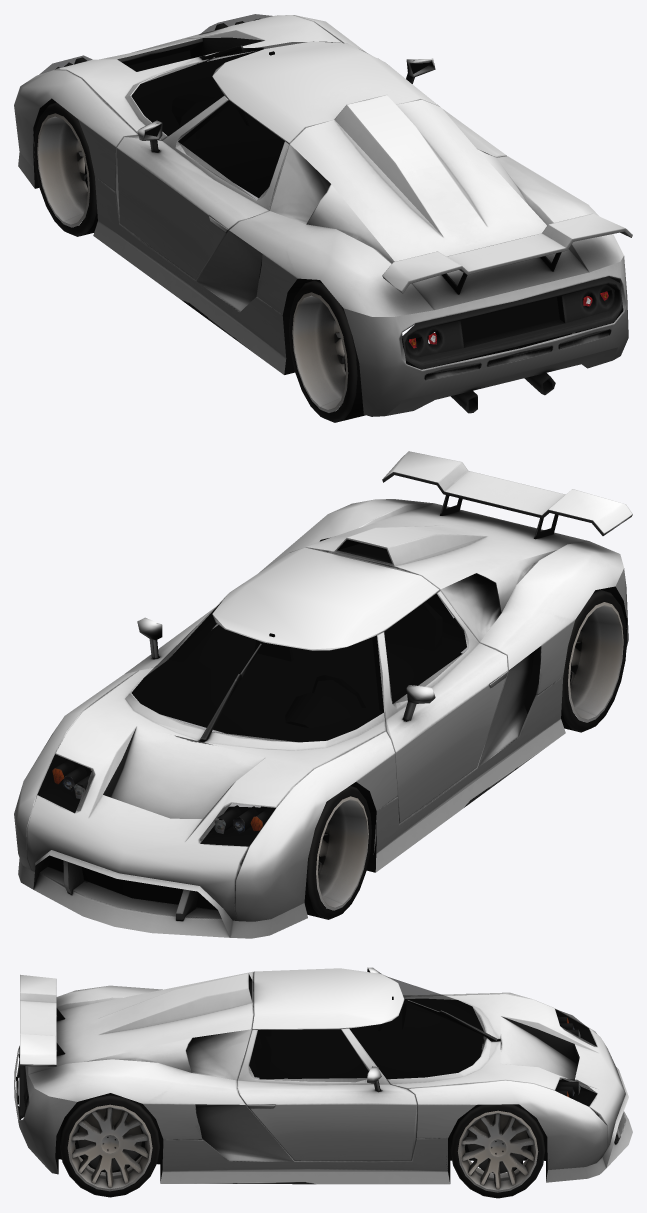
The model's file is vortex_gt.glb.
The picture shows the model from 3 angles, top to bottom: view 1: azimuth 30°, elevation 25°; view 2: azimuth 150°, elevation 25°; view 3: azimuth 270°, elevation 25°; orthographic projection. The views are drawn at different scales.
Visible parts, largest first — view 1: body, wheel_rl, wheel_fl; view 2: body, wheel_rl, wheel_fl; view 3: body, wheel_rr, wheel_fr.
Boxes of the visible parts, box(x1,y1,x2,y2) form: body: box(14, 14, 632, 416); wheel_rl: box(289, 280, 365, 422); wheel_fl: box(34, 102, 97, 236); body: box(14, 451, 632, 938); wheel_rl: box(561, 589, 626, 732); wheel_fl: box(304, 786, 371, 919); body: box(14, 967, 632, 1184); wheel_rr: box(60, 1093, 160, 1197); wheel_fr: box(450, 1104, 545, 1198).
Bounding box in the file's own units: 1.94 × 1.38 × 4.62.
Materials: 4 (3 with a texture image).
